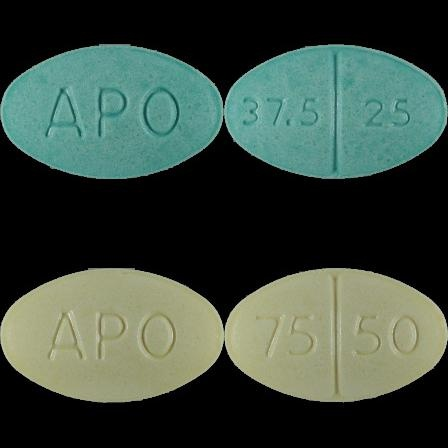60505-2656: (0, 0, 224, 224)
